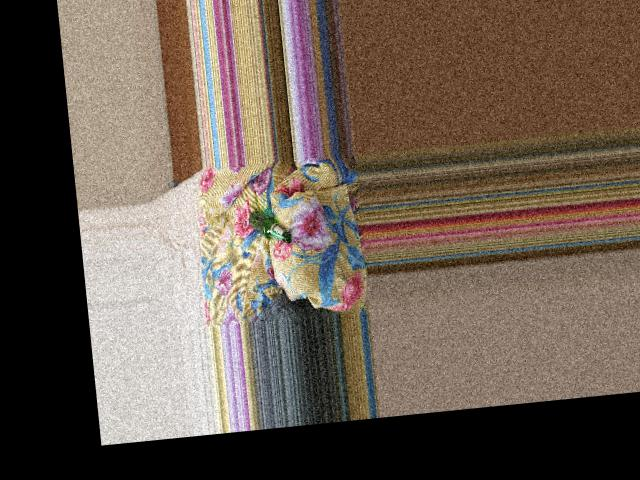beer: (248, 207, 293, 246)
